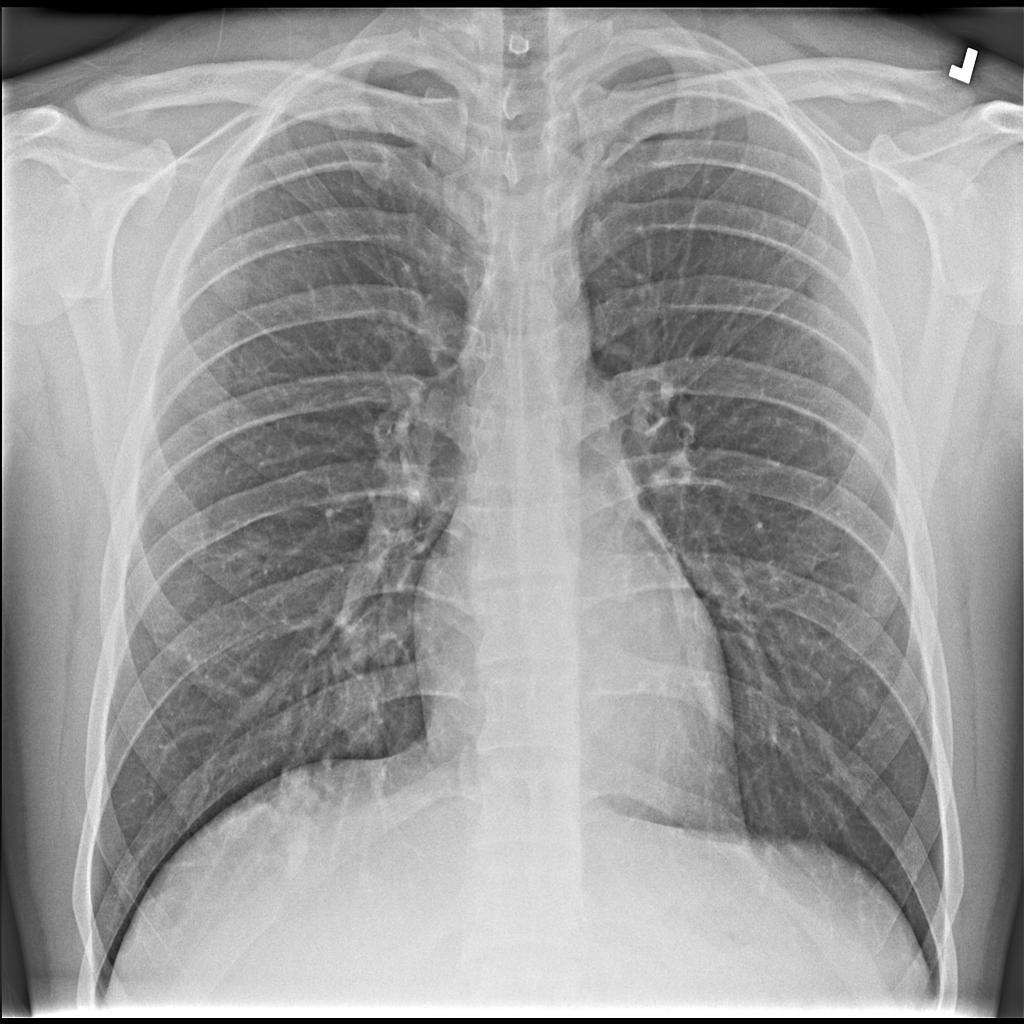Nodule: (328, 674, 393, 756)
